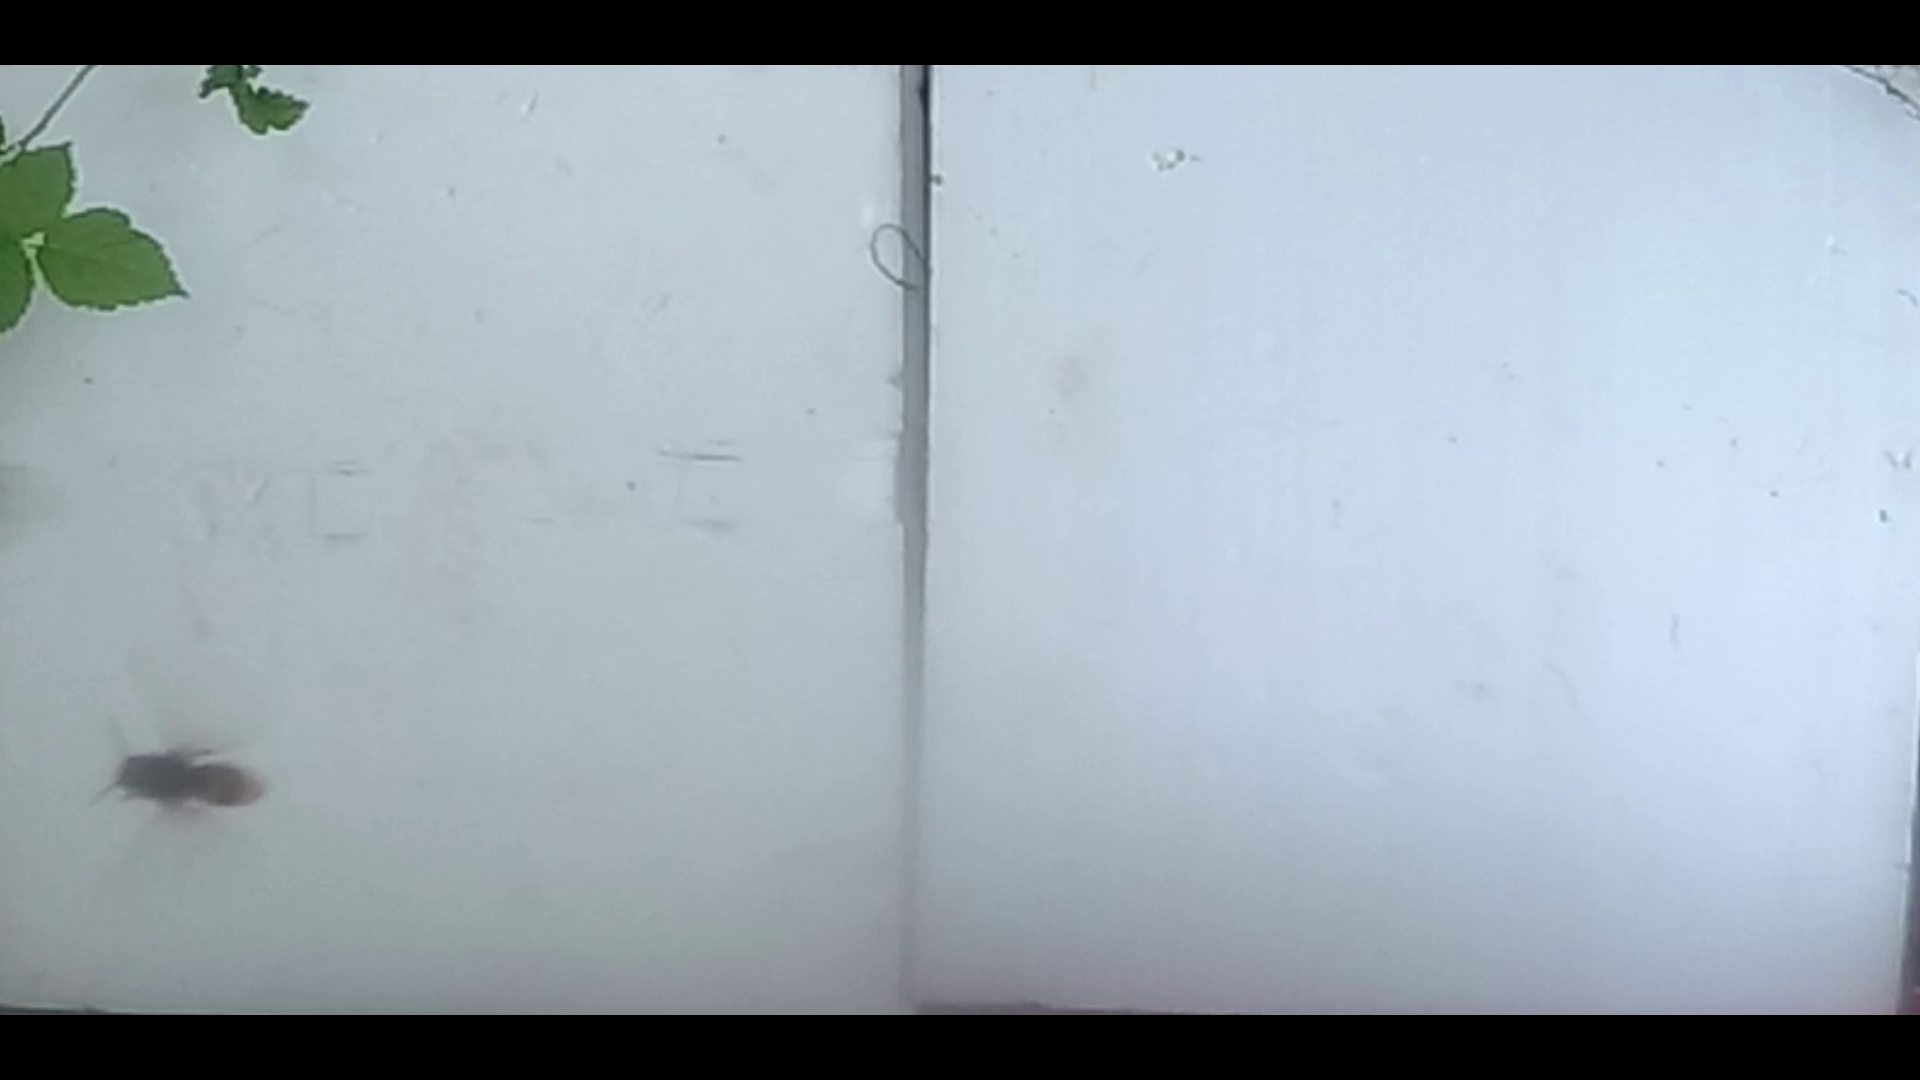Asian_hornets: (83, 712, 282, 851)
